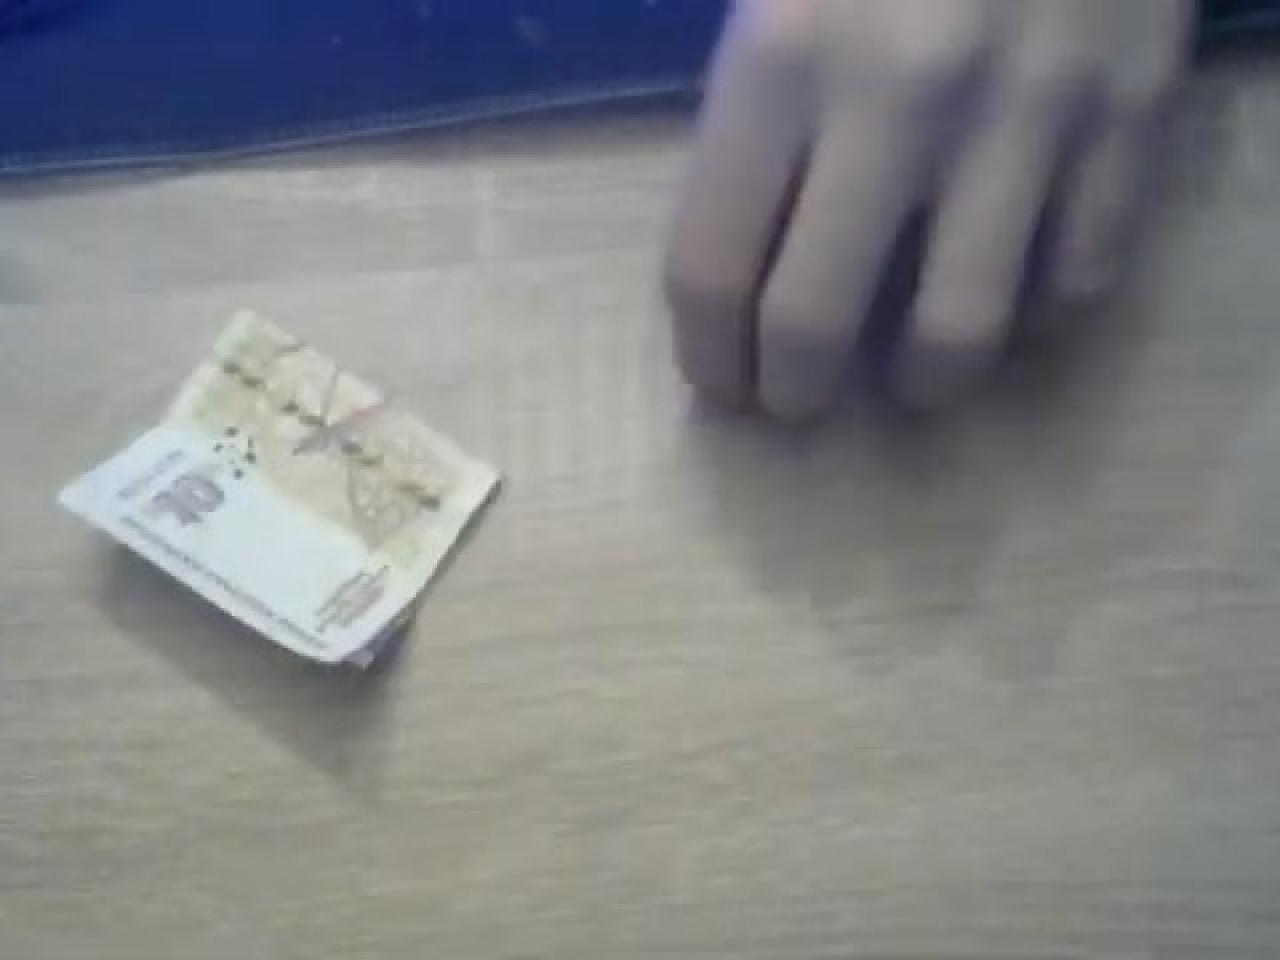10leva: (59, 304, 506, 675)
